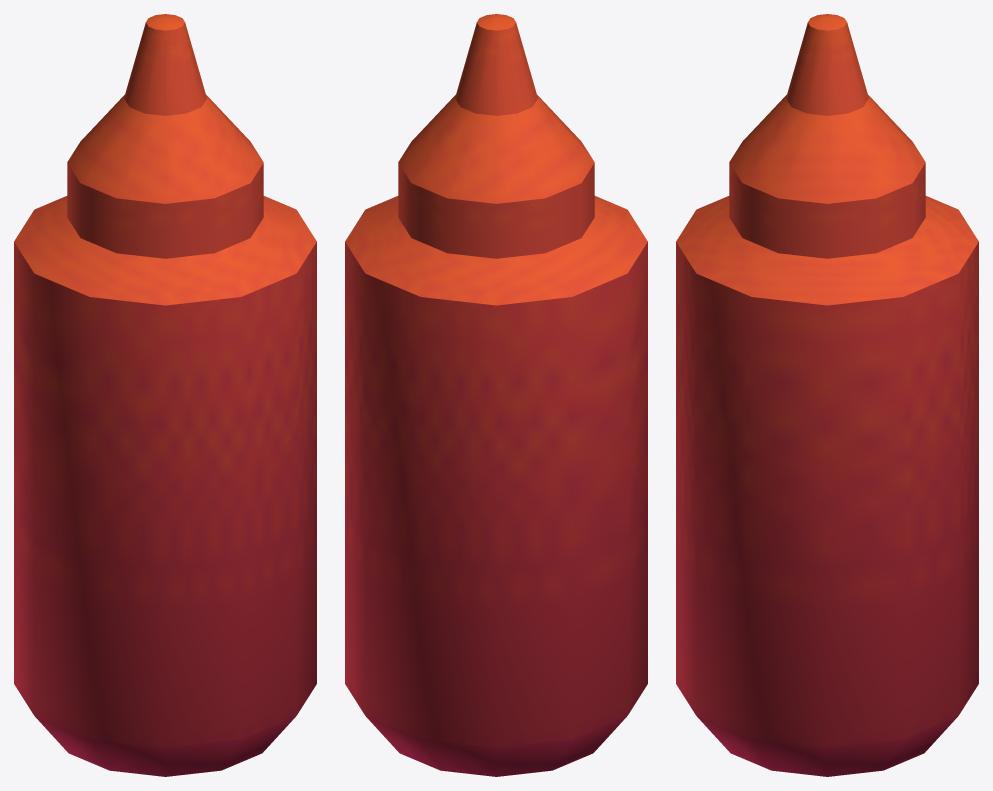
The model's file is ketchup.gltf.
3 views of the same model, side by side, from view 1: azimuth 30°, elevation 25°; view 2: azimuth 150°, elevation 25°; view 3: azimuth 270°, elevation 25° (orthographic).
Visible parts, largest first — view 1: ketchup; view 2: ketchup; view 3: ketchup.
Boxes of the visible parts, x1,y1,x2,y2 form: ketchup: (14,14,316,776); ketchup: (345,14,647,776); ketchup: (676,14,978,776).
Bounding box in the file's own units: 0.3 × 0.7785 × 0.3.
1 material, 1 textured.
